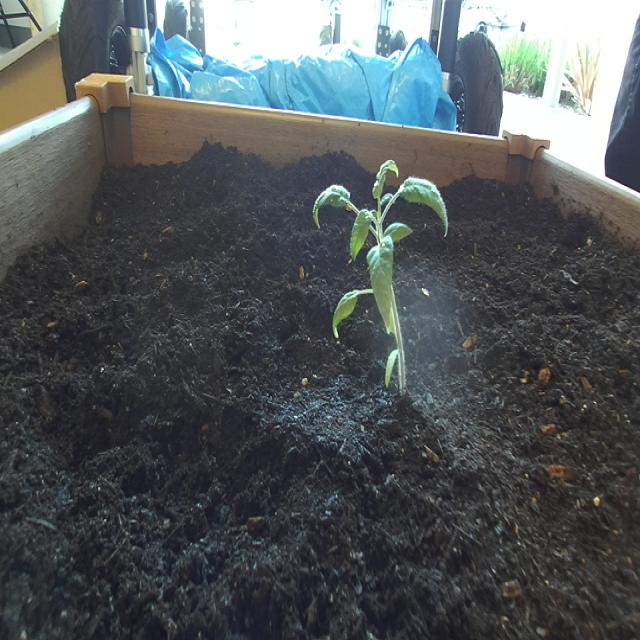Healthy: (309, 149, 451, 406)
